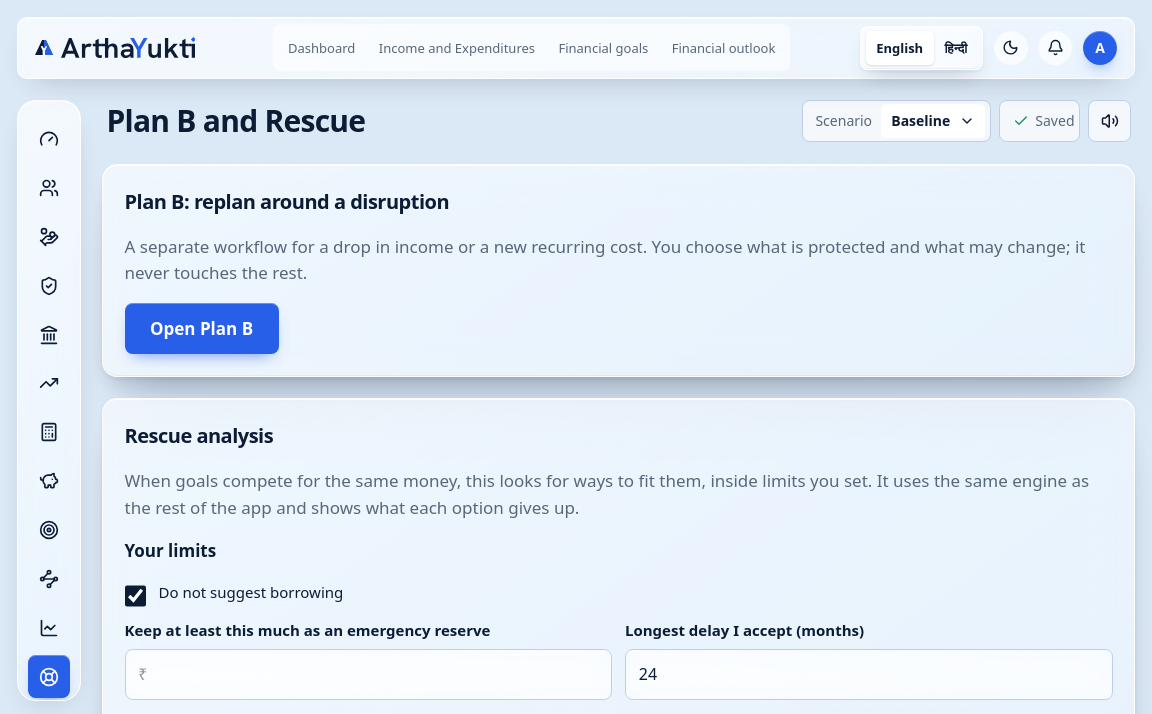
Test case: rescue analysis › refuses limits the engine would reject before sending anything
The width and height of the screenshot is (1152, 714).
Replace the text in the field labelled "Longest delay I accept (months)" with "500" at (869, 675), box [625, 649, 1113, 700]
(page scrolled)
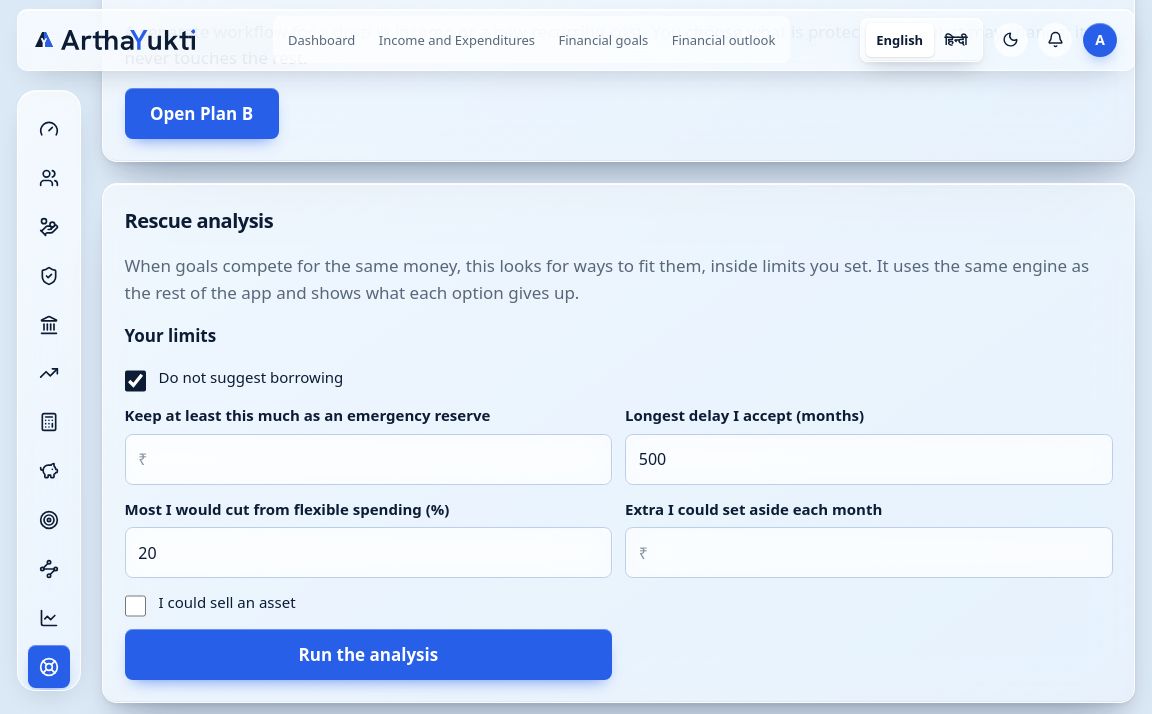
Click the button "Run the analysis".
click(368, 655)  # box [124, 630, 612, 680]
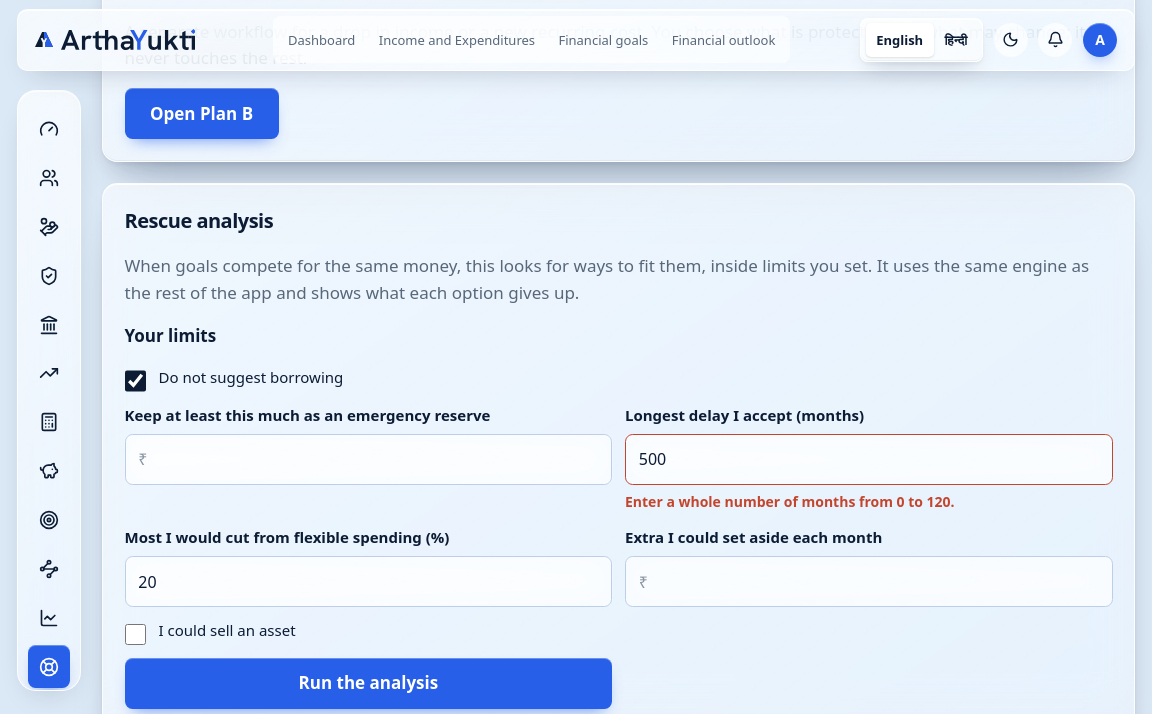
Expected: the text "Enter a whole number of months from 0 to 120." is shown, [625, 492, 955, 512]
